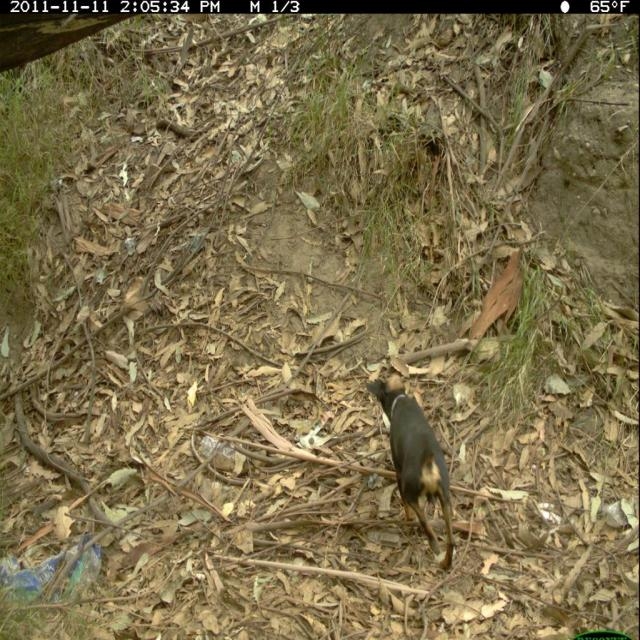dog: (360, 352, 465, 581)
